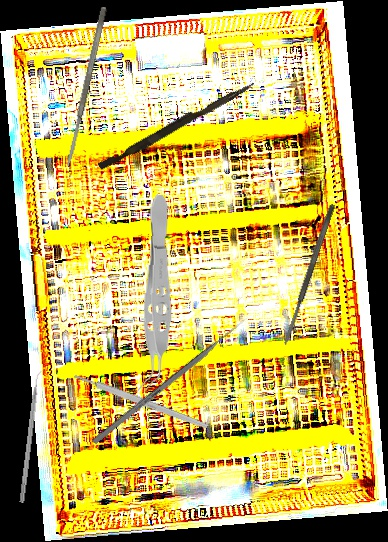Chopper: (19, 368, 48, 504)
Pusher: (91, 315, 250, 446), (97, 76, 256, 174)
Scalpel Handle: (73, 371, 209, 431)
Spatula Surgical: (280, 203, 337, 347), (63, 6, 109, 168)
Tissue Forceps: (136, 193, 176, 394)
